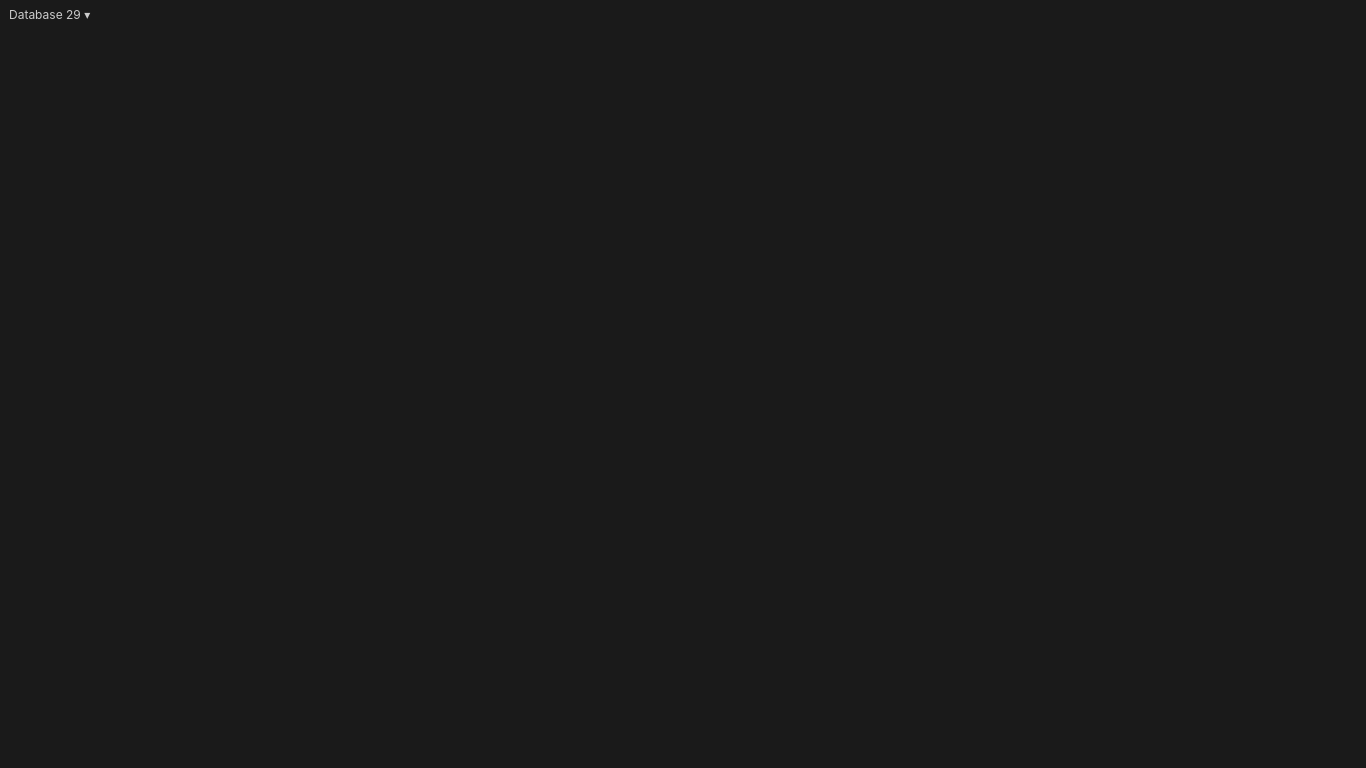
Test case: ConnectionManager bounded shortcuts › offers searchable access to all connections and reuses edit and new callbacks
This screenshot has width=1366, height=768.
Later steps or results of the test are not shown.
Press Enter in the button with aria-label "Query connection", box [0,0,99,28]
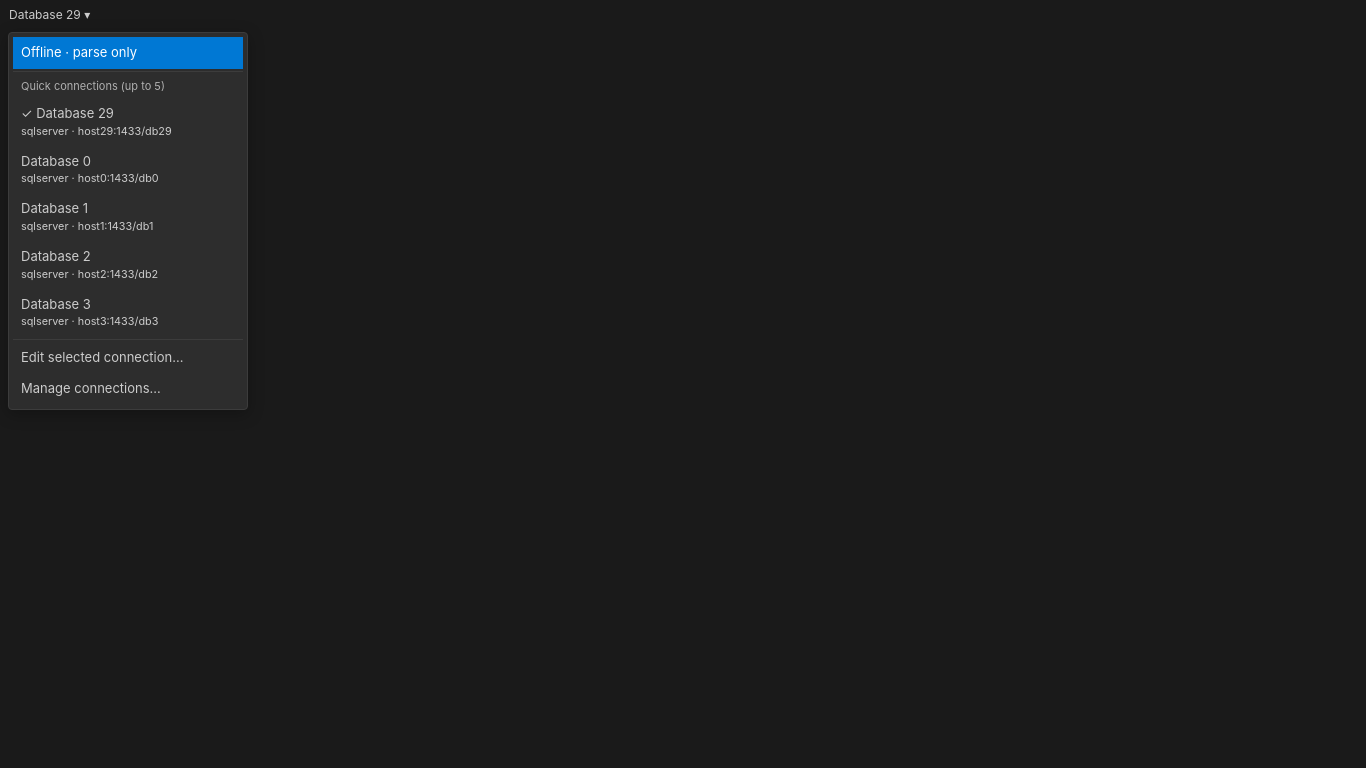
Click the menu item "Manage connections…" at (91, 388), box [21,380,161,396]
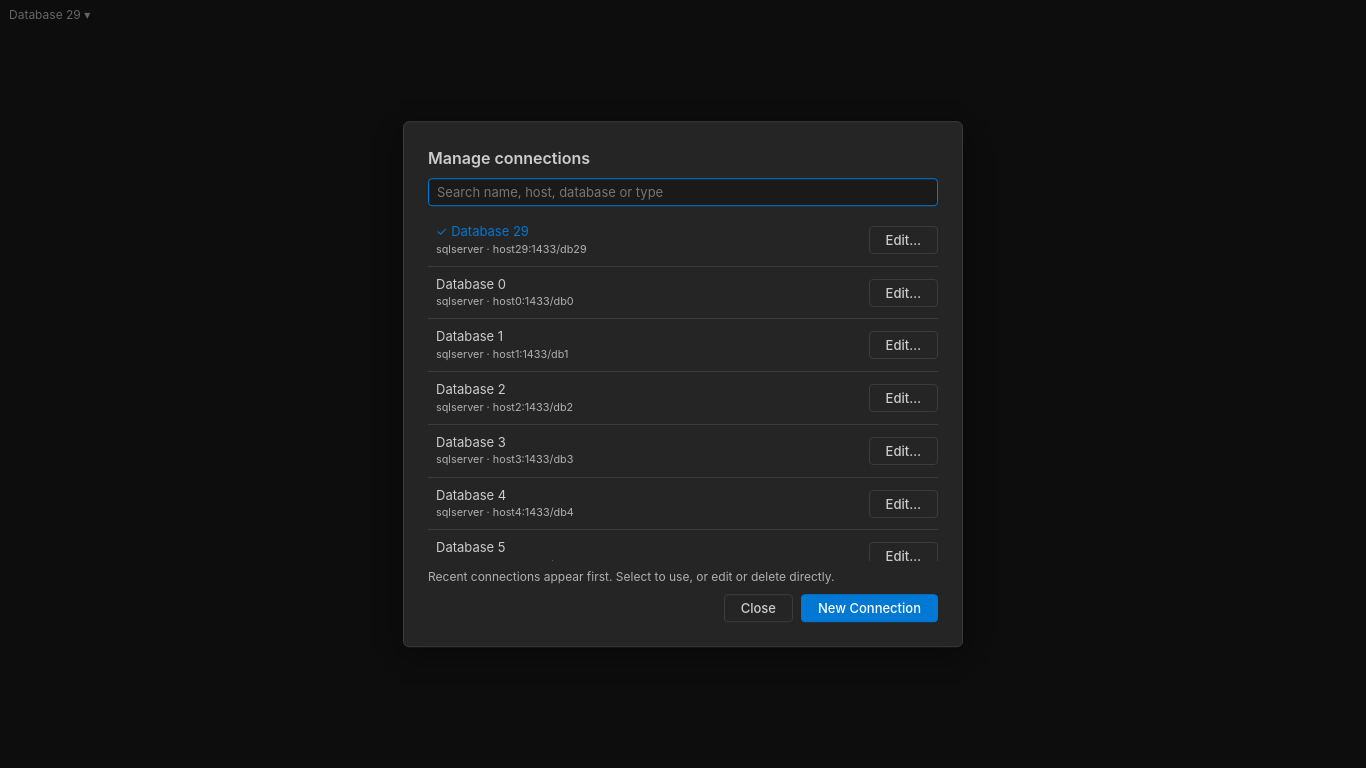
Type "host17" into the search field at (683, 192), box [428,178,938,206]
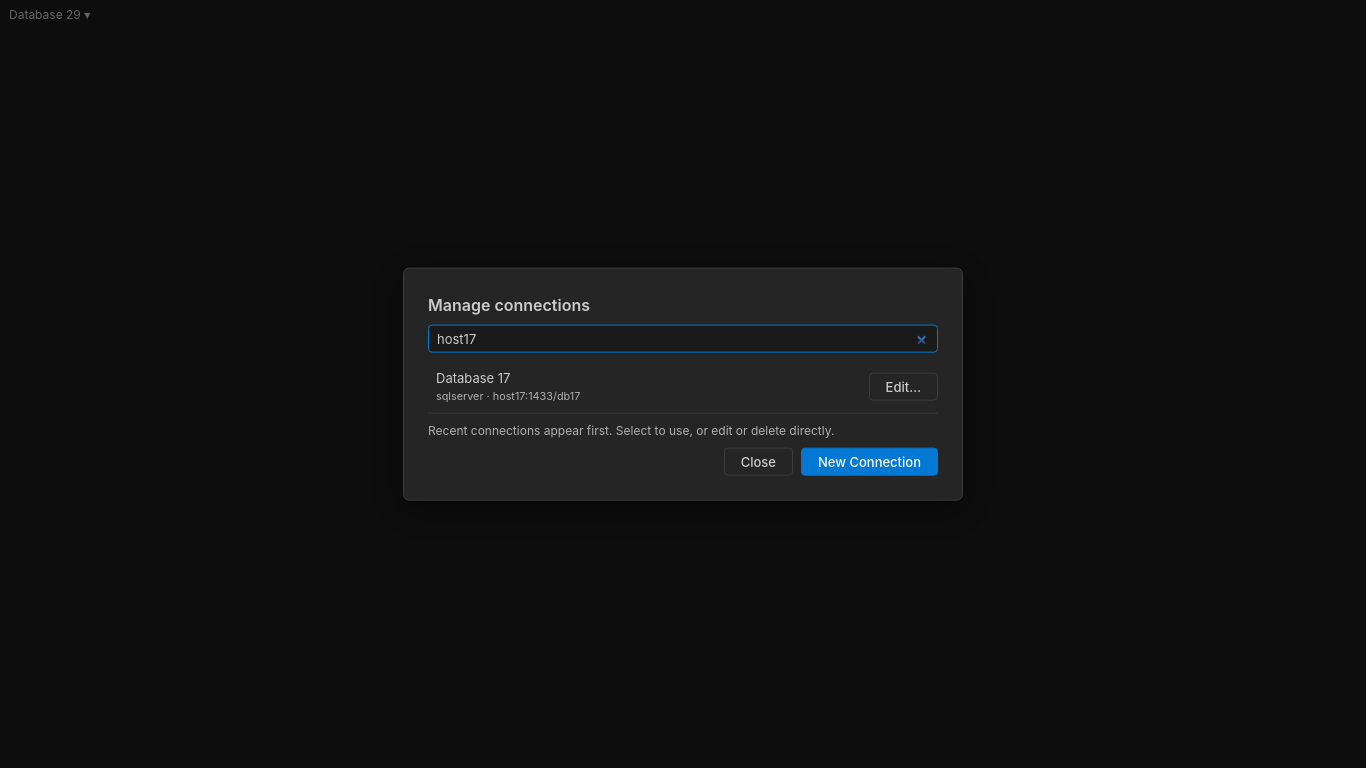
Now the text "Database 17" is shown, box [436,370,510,386]
